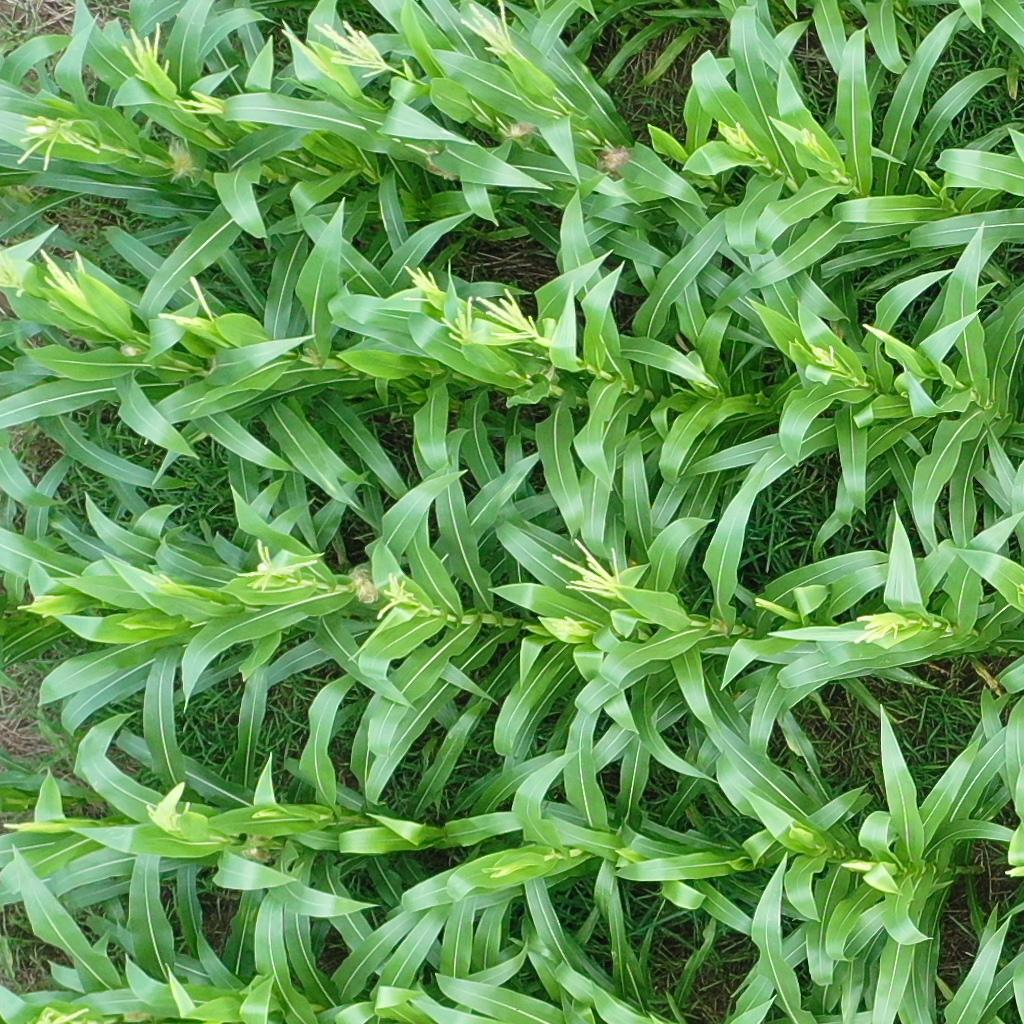Tassel: (399, 261, 552, 353), (276, 17, 396, 81), (11, 106, 100, 170), (237, 534, 327, 593), (547, 535, 630, 598), (40, 246, 102, 319), (155, 274, 223, 338), (454, 1, 520, 61), (116, 21, 170, 83), (132, 572, 206, 605), (141, 797, 200, 835), (852, 610, 917, 643), (374, 570, 416, 619), (169, 88, 231, 121), (715, 115, 755, 156), (1, 240, 30, 296), (541, 607, 589, 640), (792, 125, 828, 160), (33, 1003, 92, 1024), (21, 594, 65, 622), (807, 341, 839, 372), (478, 860, 525, 880), (1, 817, 48, 833), (844, 856, 873, 880)
